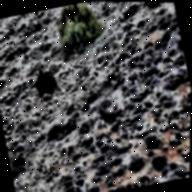boar: (92, 96, 119, 129)
